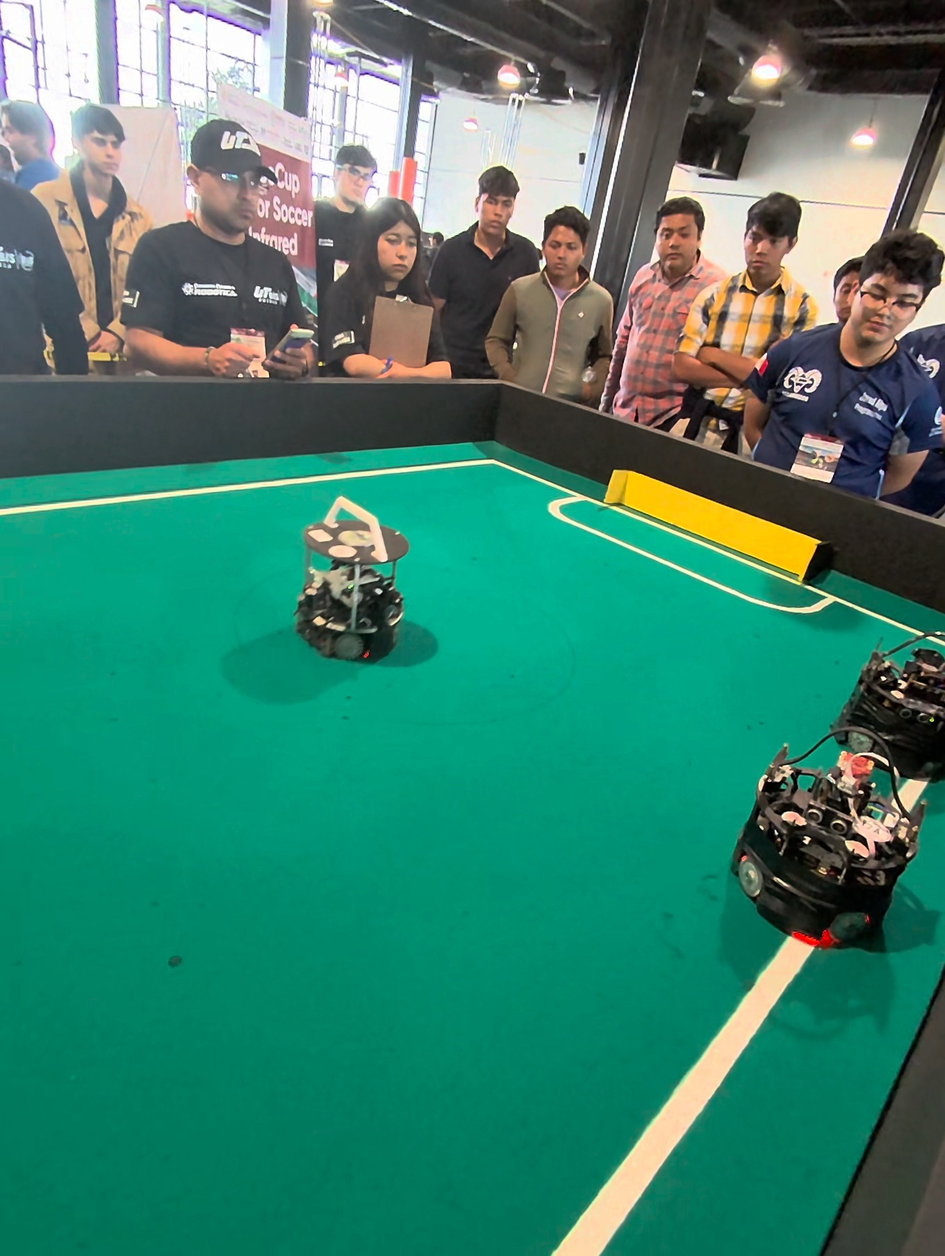Robot: (738, 721, 936, 963), (288, 493, 409, 669), (832, 620, 945, 797)
